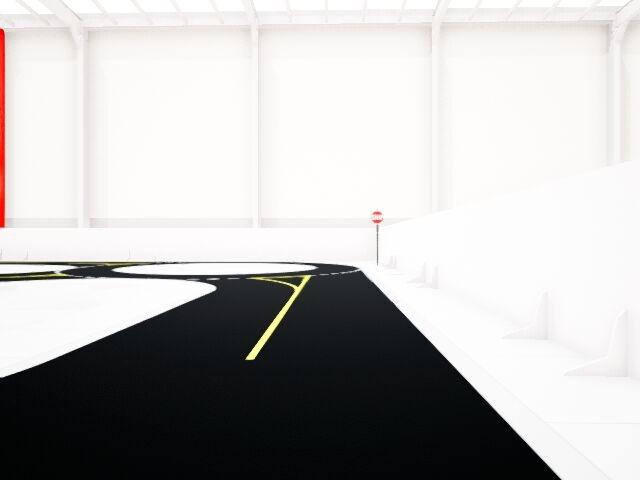stopsign: (368, 208, 385, 225)
